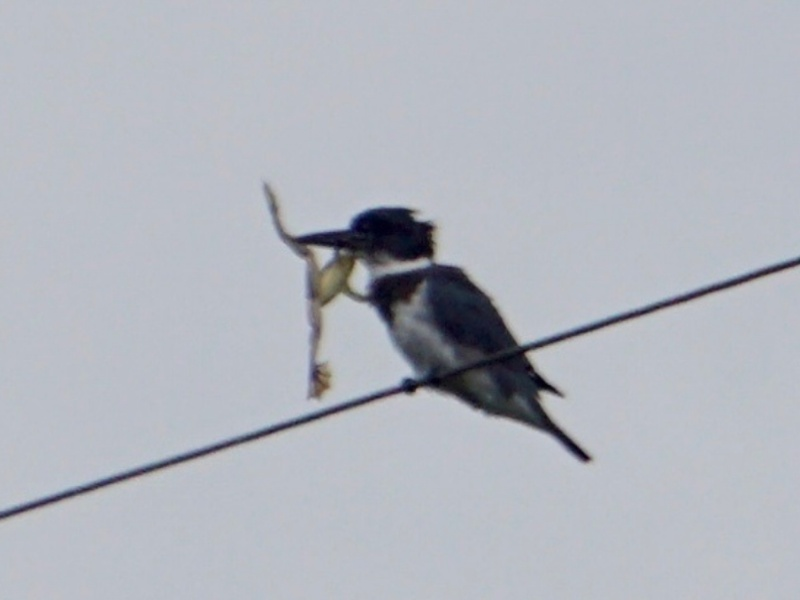kingfisher: (288, 201, 595, 467)
